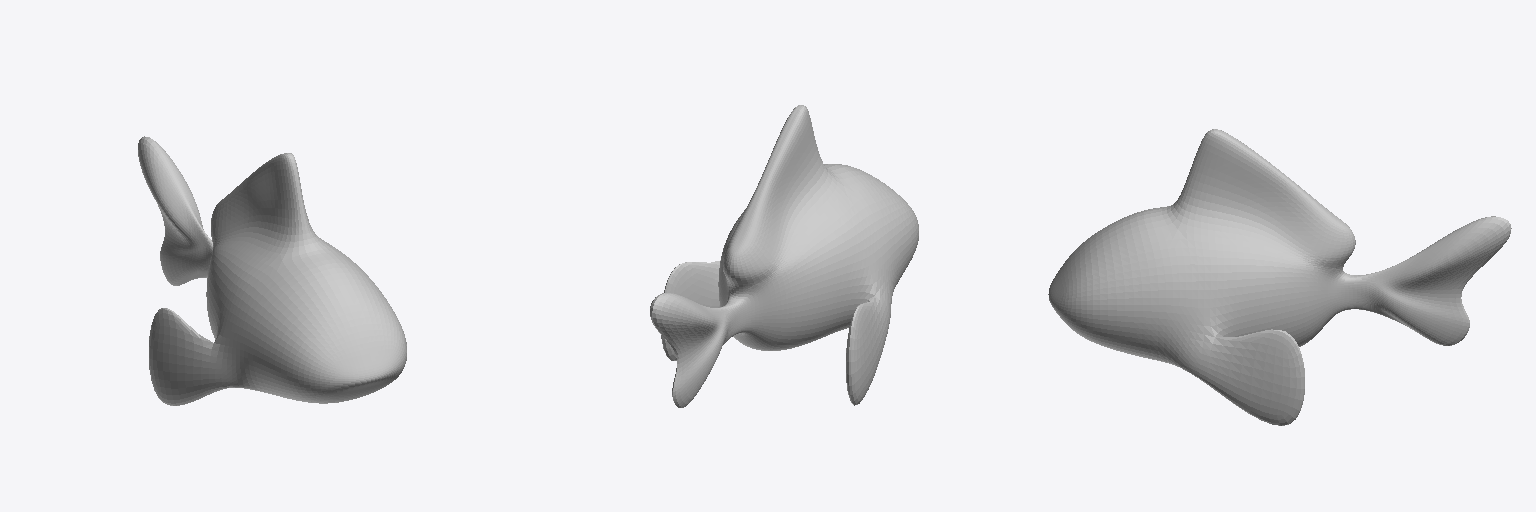
The model's file is blub_quadrangulated.obj.
3 views of the same model, side by side, from view 1: azimuth 30°, elevation 25°; view 2: azimuth 150°, elevation 25°; view 3: azimuth 270°, elevation 25° (orthographic).
Bounding box in the file's own units: 1.42 × 1.75 × 2.91.